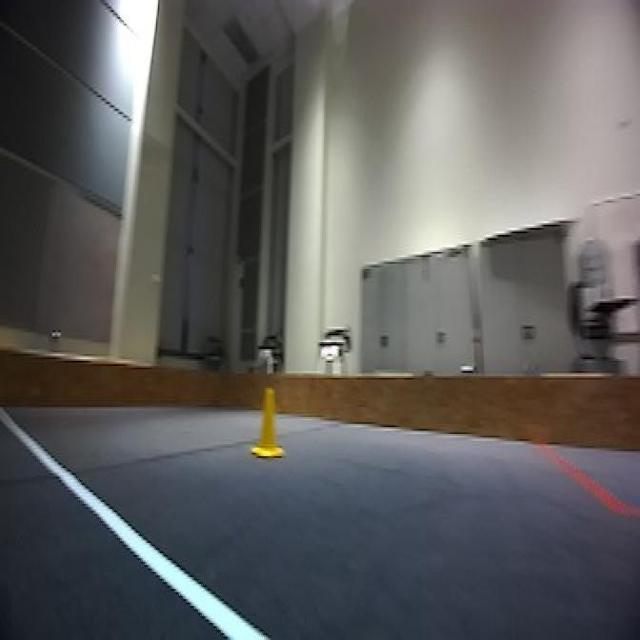frc_cone: (252, 385, 296, 475)
